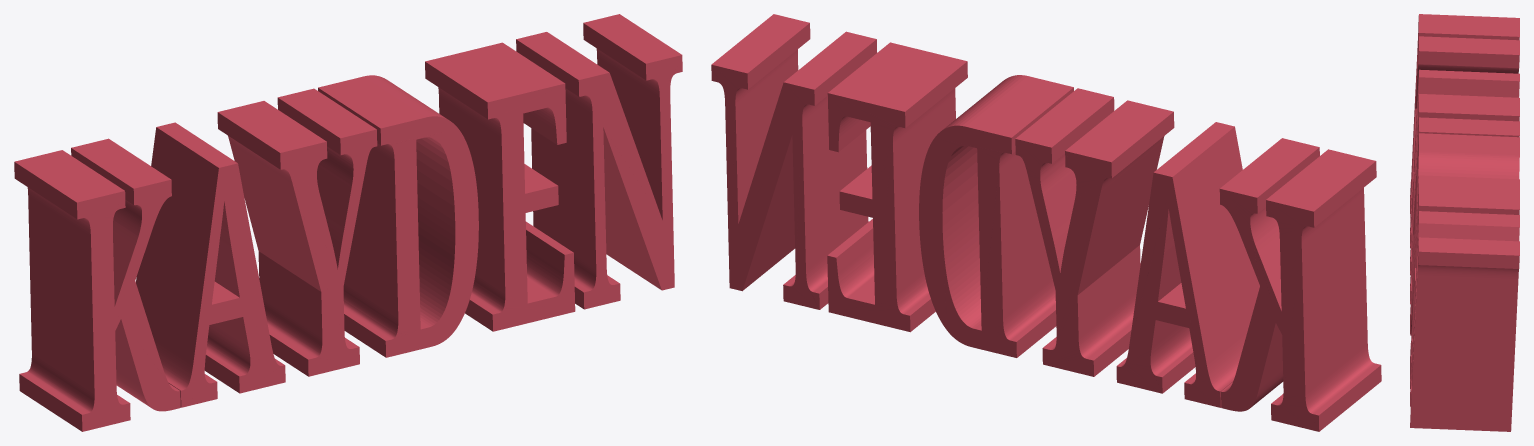
File: kayden3.glb
3 views of the same model, side by side, from view 1: azimuth 30°, elevation 25°; view 2: azimuth 150°, elevation 25°; view 3: azimuth 270°, elevation 25° (orthographic). The views are drawn at different scales.
Visible parts, largest first — view 1: Mesh_Mesh_head_geo.001_lambert2SG.001; view 2: Mesh_Mesh_head_geo.001_lambert2SG.001; view 3: Mesh_Mesh_head_geo.001_lambert2SG.001.
Part boxes in pixels (bbox=[...]): Mesh_Mesh_head_geo.001_lambert2SG.001: bbox=[14, 14, 682, 431]; Mesh_Mesh_head_geo.001_lambert2SG.001: bbox=[711, 14, 1381, 431]; Mesh_Mesh_head_geo.001_lambert2SG.001: bbox=[1410, 14, 1519, 431].
Bounding box in the file's own units: 0.0557 × 0.0202 × 0.0109.
